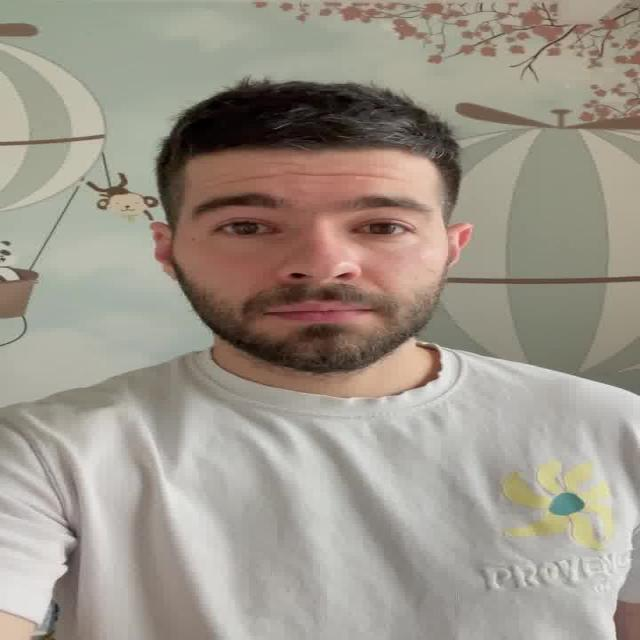earlobe: (148, 221, 177, 281), (442, 222, 472, 268)
